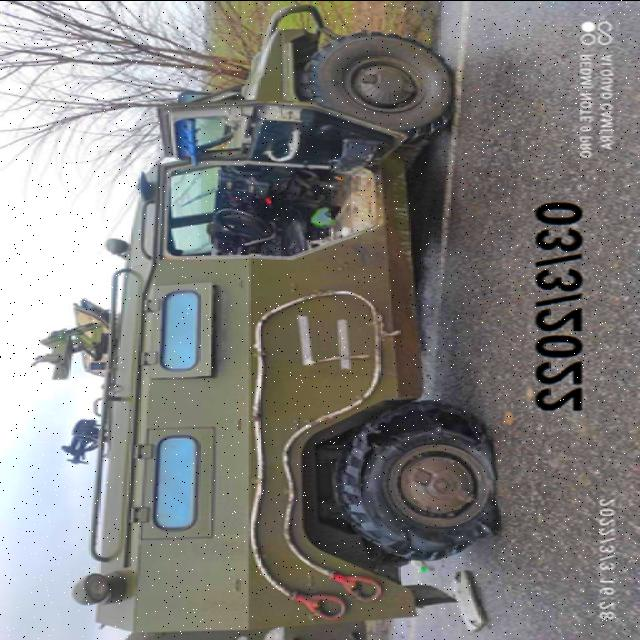CAR: (80, 8, 504, 622)
